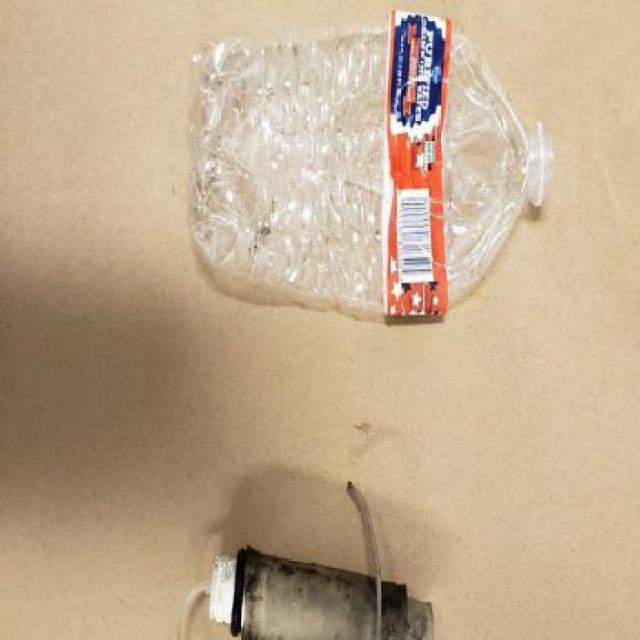bottle: (182, 14, 600, 397)
